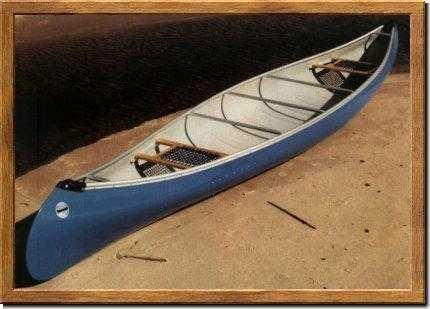kayak: (16, 26, 398, 287)
